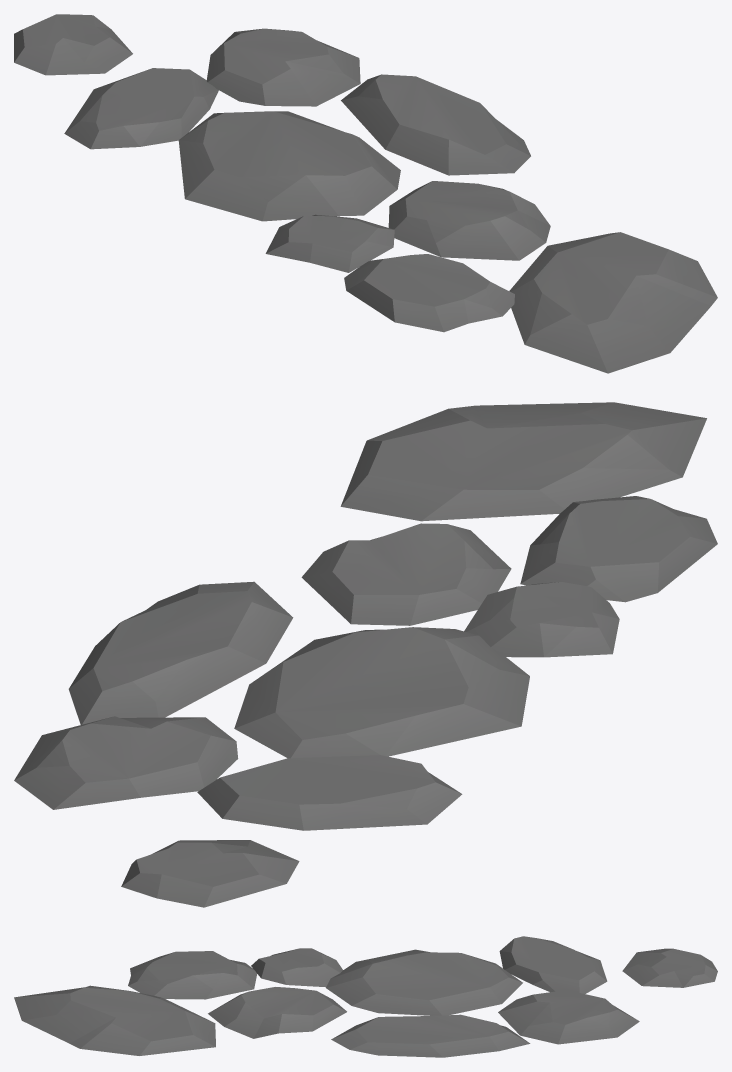
Rendered from Rocky_Path.fbx.
3 renders of one model, top to bottom at view 1: azimuth 30°, elevation 25°; view 2: azimuth 150°, elevation 25°; view 3: azimuth 270°, elevation 25°, orthographic. The views are drawn at different scales.
Visible parts, largest first — view 1: Cylinder.017; view 2: Cylinder.017; view 3: Cylinder.017.
Part boxes in pixels (x1,y1,x2,y2): Cylinder.017: (14, 14, 717, 373); Cylinder.017: (14, 402, 717, 907); Cylinder.017: (14, 936, 717, 1057).
Size of the model in its own units: 296 by 23.81 by 750.
